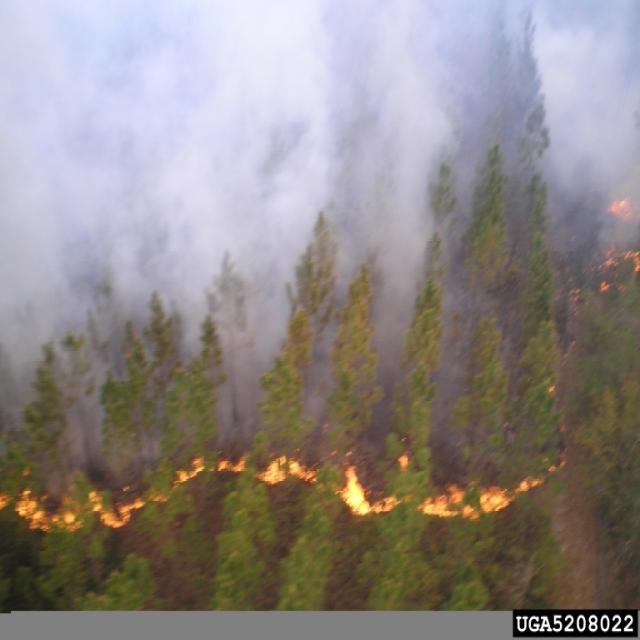Fire: (0, 454, 516, 534)
